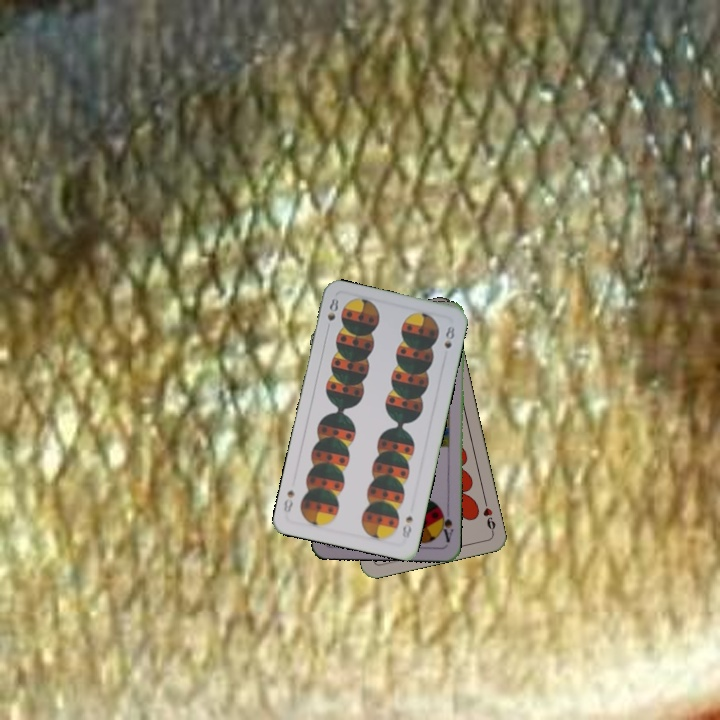H9: (479, 495, 498, 535)
S8: (323, 294, 341, 323), (398, 512, 415, 541)
SA: (436, 505, 456, 545)
